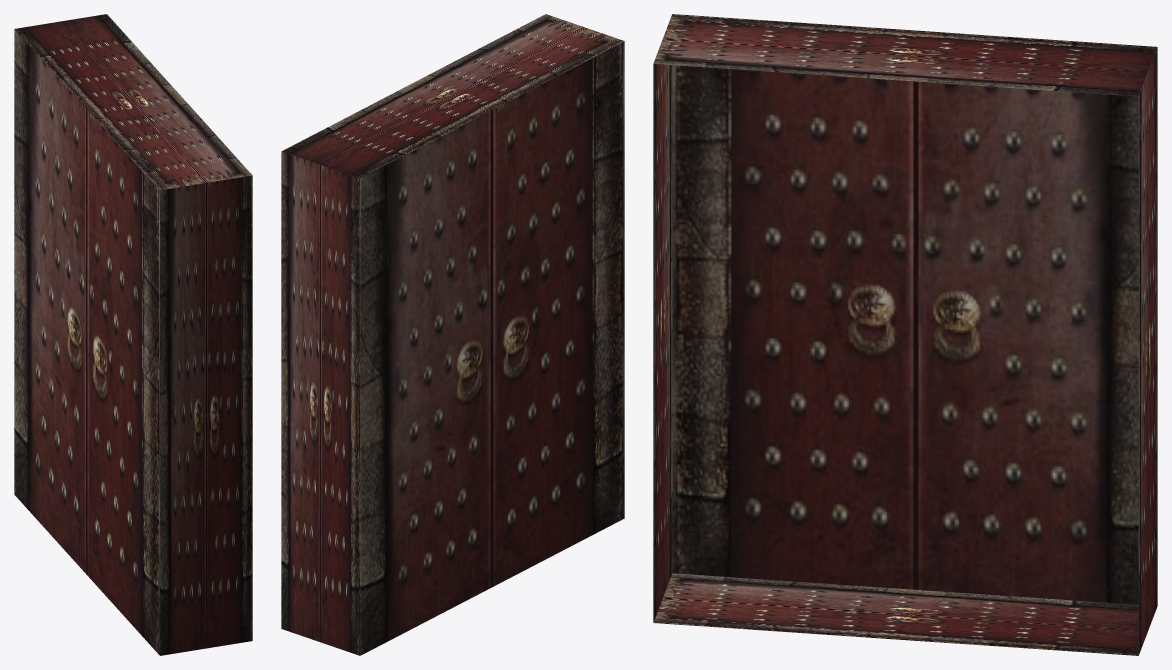
3 views of the same model, side by side, from view 1: azimuth 30°, elevation 25°; view 2: azimuth 150°, elevation 25°; view 3: azimuth 270°, elevation 25° (orthographic). The views are drawn at different scales.
Visible parts, largest first — view 1: Box121; view 2: Box121; view 3: Box121.
Part boxes in pixels (box(x1,y1,x2,y2)): Box121: box(14, 14, 252, 655); Box121: box(281, 14, 624, 655); Box121: box(653, 14, 1157, 655).
Size of the model in its own units: 40.96 by 129 by 106.
